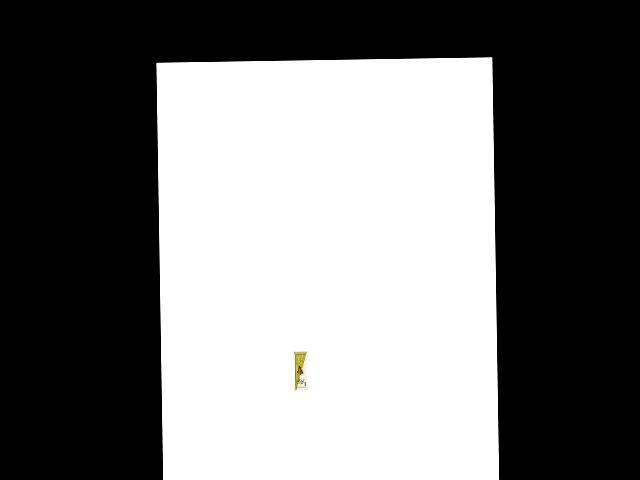chocolate: (290, 349, 310, 393)
